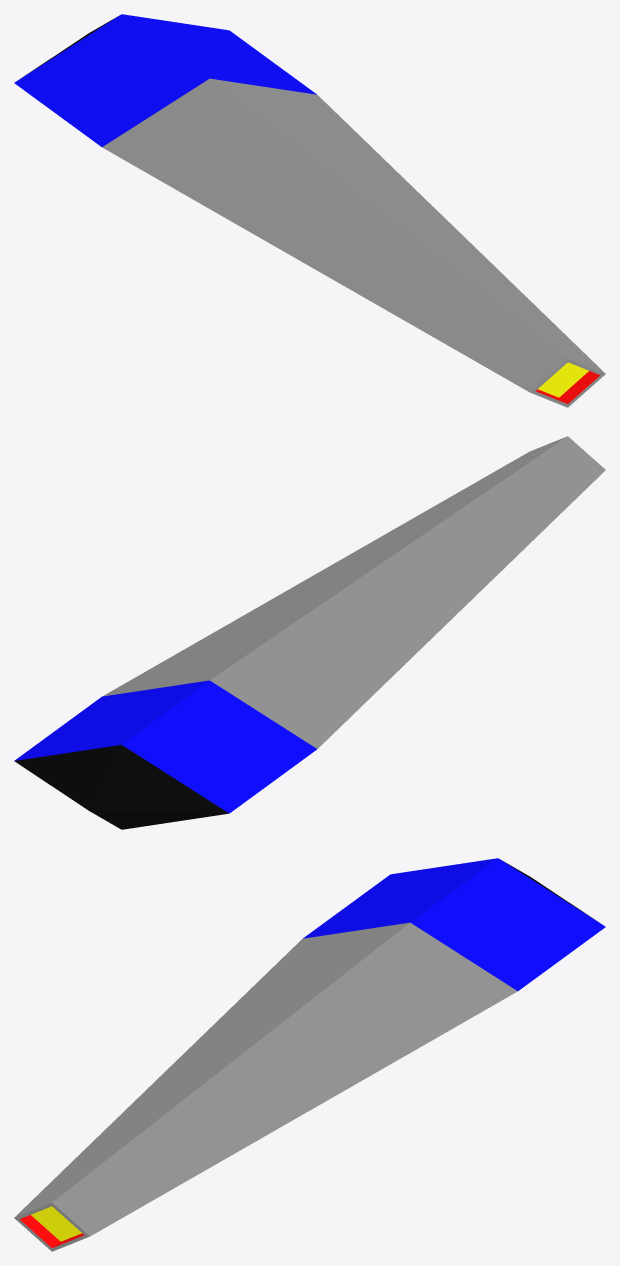
The model's file is TurretCannon.glb.
3 views of the same model, one above another, from view 1: azimuth 30°, elevation 25°; view 2: azimuth 150°, elevation 25°; view 3: azimuth 330°, elevation 25° (orthographic).
Visible parts, largest first — view 1: Barrel; view 2: Barrel; view 3: Barrel.
Part boxes in pixels (x1,y1,x2,y2): Barrel: (14, 14, 605, 407); Barrel: (14, 436, 605, 829); Barrel: (14, 858, 605, 1251).
Size of the model in its own units: 0.7071 by 0.2665 by 2.72.
1 material, 1 textured.
